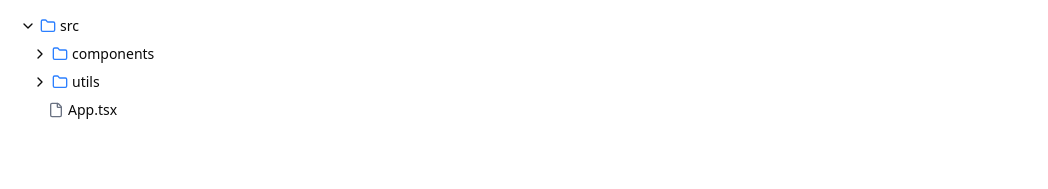
it: Add File to Folder via Context Menu › shows "Add File" option for nested folders
The image size is (1048, 189).
# Click on components folder to expand it
Step 1. Click the list item with test id "folder-components" → [113, 54], box [12,40,1036,68]
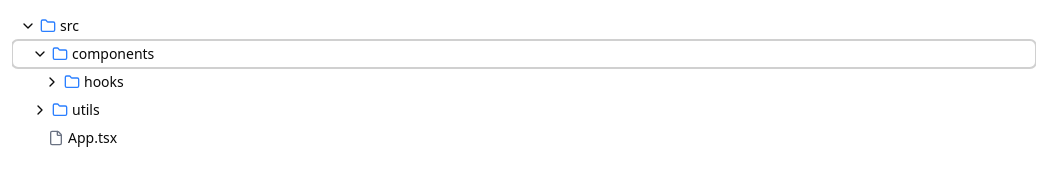
Check: the list item with test id "folder-hooks" is shown
# Right-click on the nested hooks folder
Step 2. Right-click the list item with test id "folder-hooks" → [104, 82], box [12,68,1036,96]
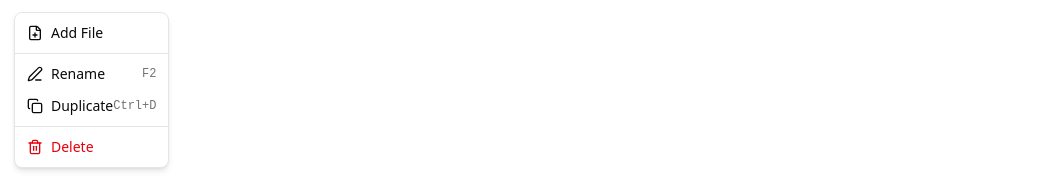
Check: the menu item with test id "context-menu-add-file" reads "Add File", box [27,23,103,42]
